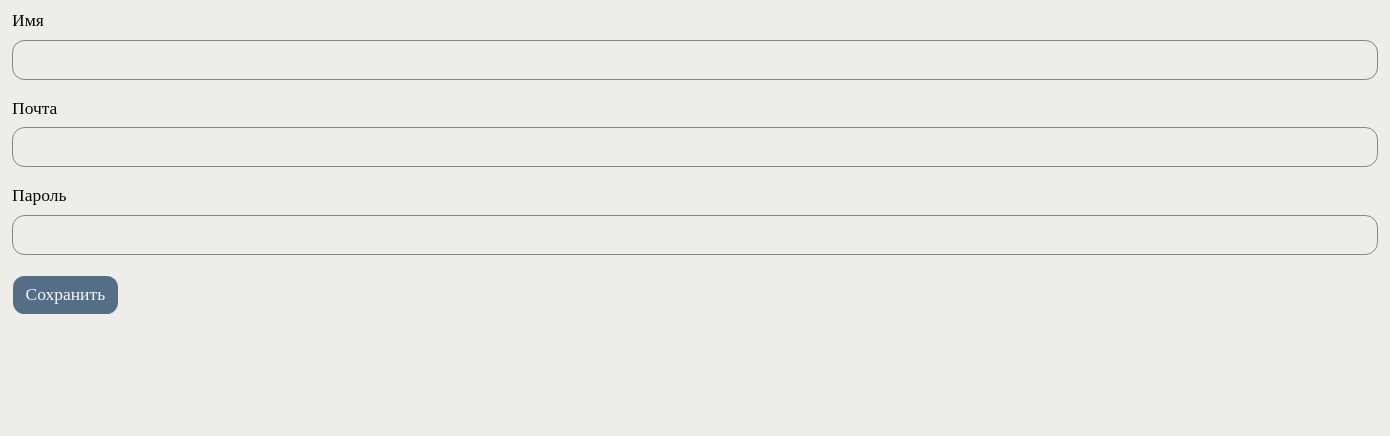
Test: useFormAction › проверка браузера выключена: пустое required-поле не мешает дойти до сервера с русским текстом
Click the button "Сохранить" at (65, 294), box x1=12 y1=274 x2=119 y2=314
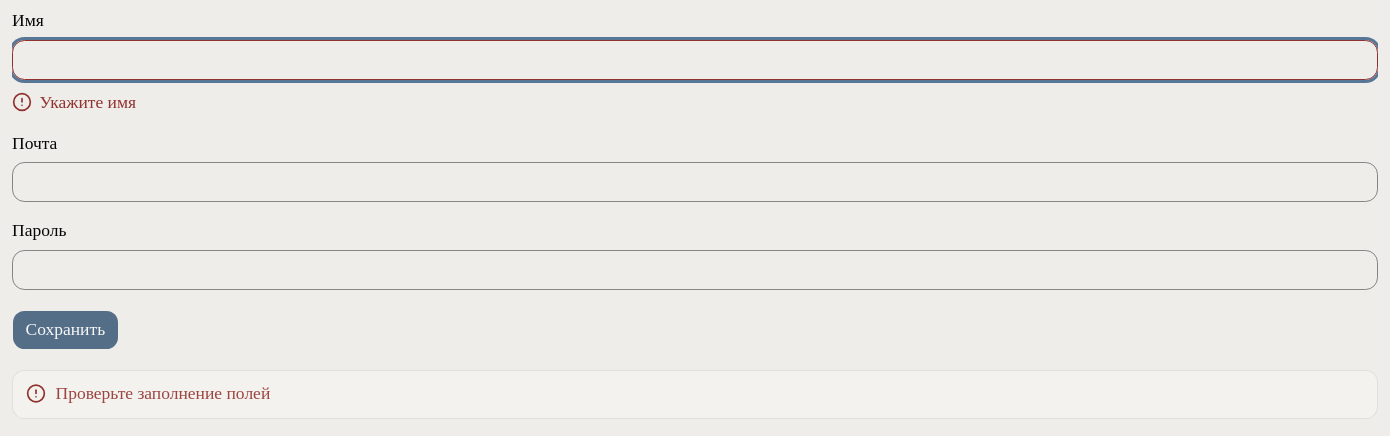
Now the text "Укажите имя" is shown, box x1=40 y1=90 x2=136 y2=114
